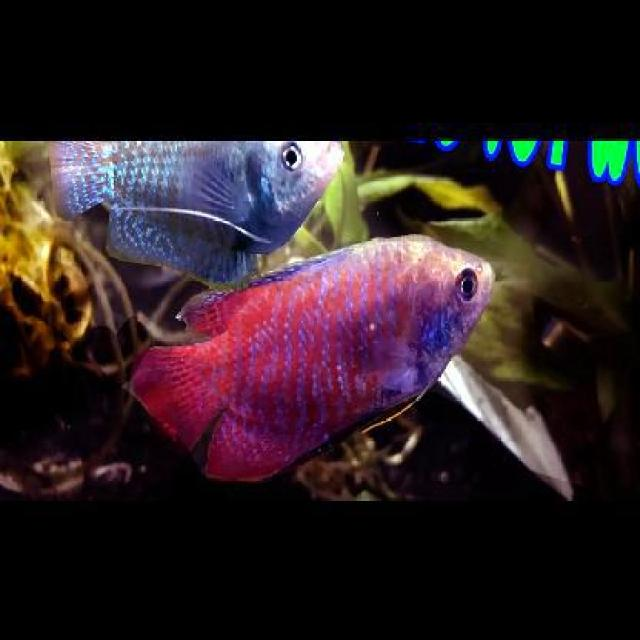Gourami: (132, 233, 496, 482), (46, 140, 348, 285)
